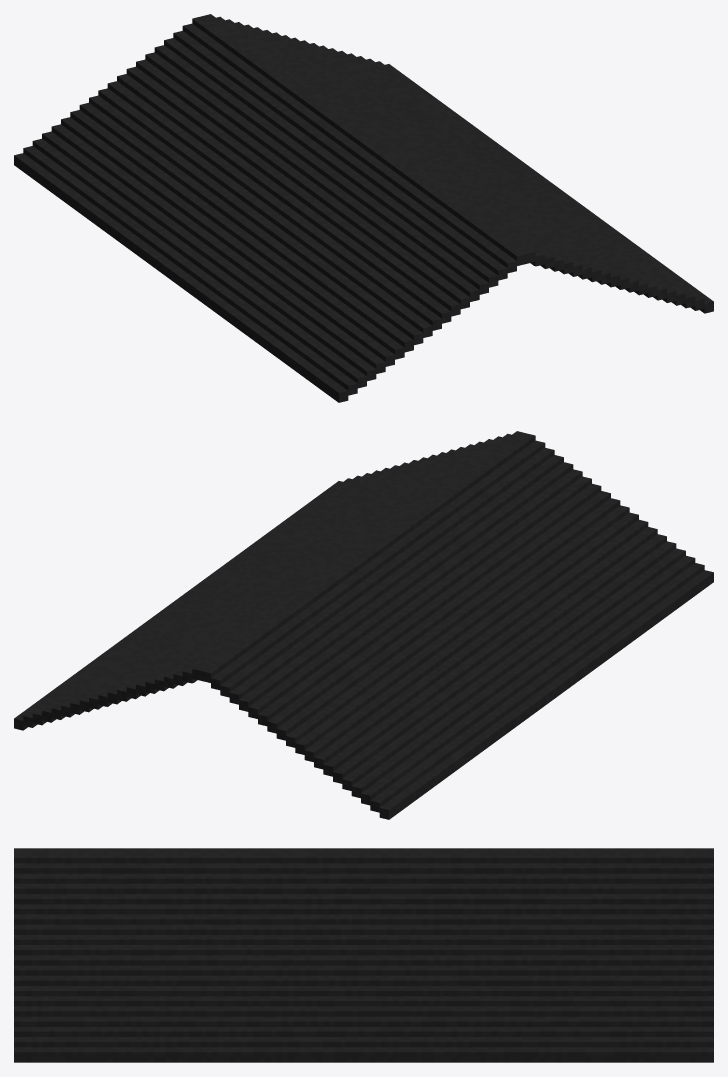
The model's file is farm-20-barn_roof.obj.
3 views of the same model, one above another, from view 1: azimuth 30°, elevation 25°; view 2: azimuth 150°, elevation 25°; view 3: azimuth 270°, elevation 25° (orthographic). The views are drawn at different scales.
Parts seen in each view (by area): view 1: barn_roof; view 2: barn_roof; view 3: barn_roof.
Boxes of the visible parts, x1=… form: barn_roof: x1=14, y1=14, x2=713, y2=402; barn_roof: x1=14, y1=431, x2=713, y2=819; barn_roof: x1=14, y1=848, x2=713, y2=1062.
Size of the model in its own units: 8 by 2.1 by 12.
1 material, 1 textured.
